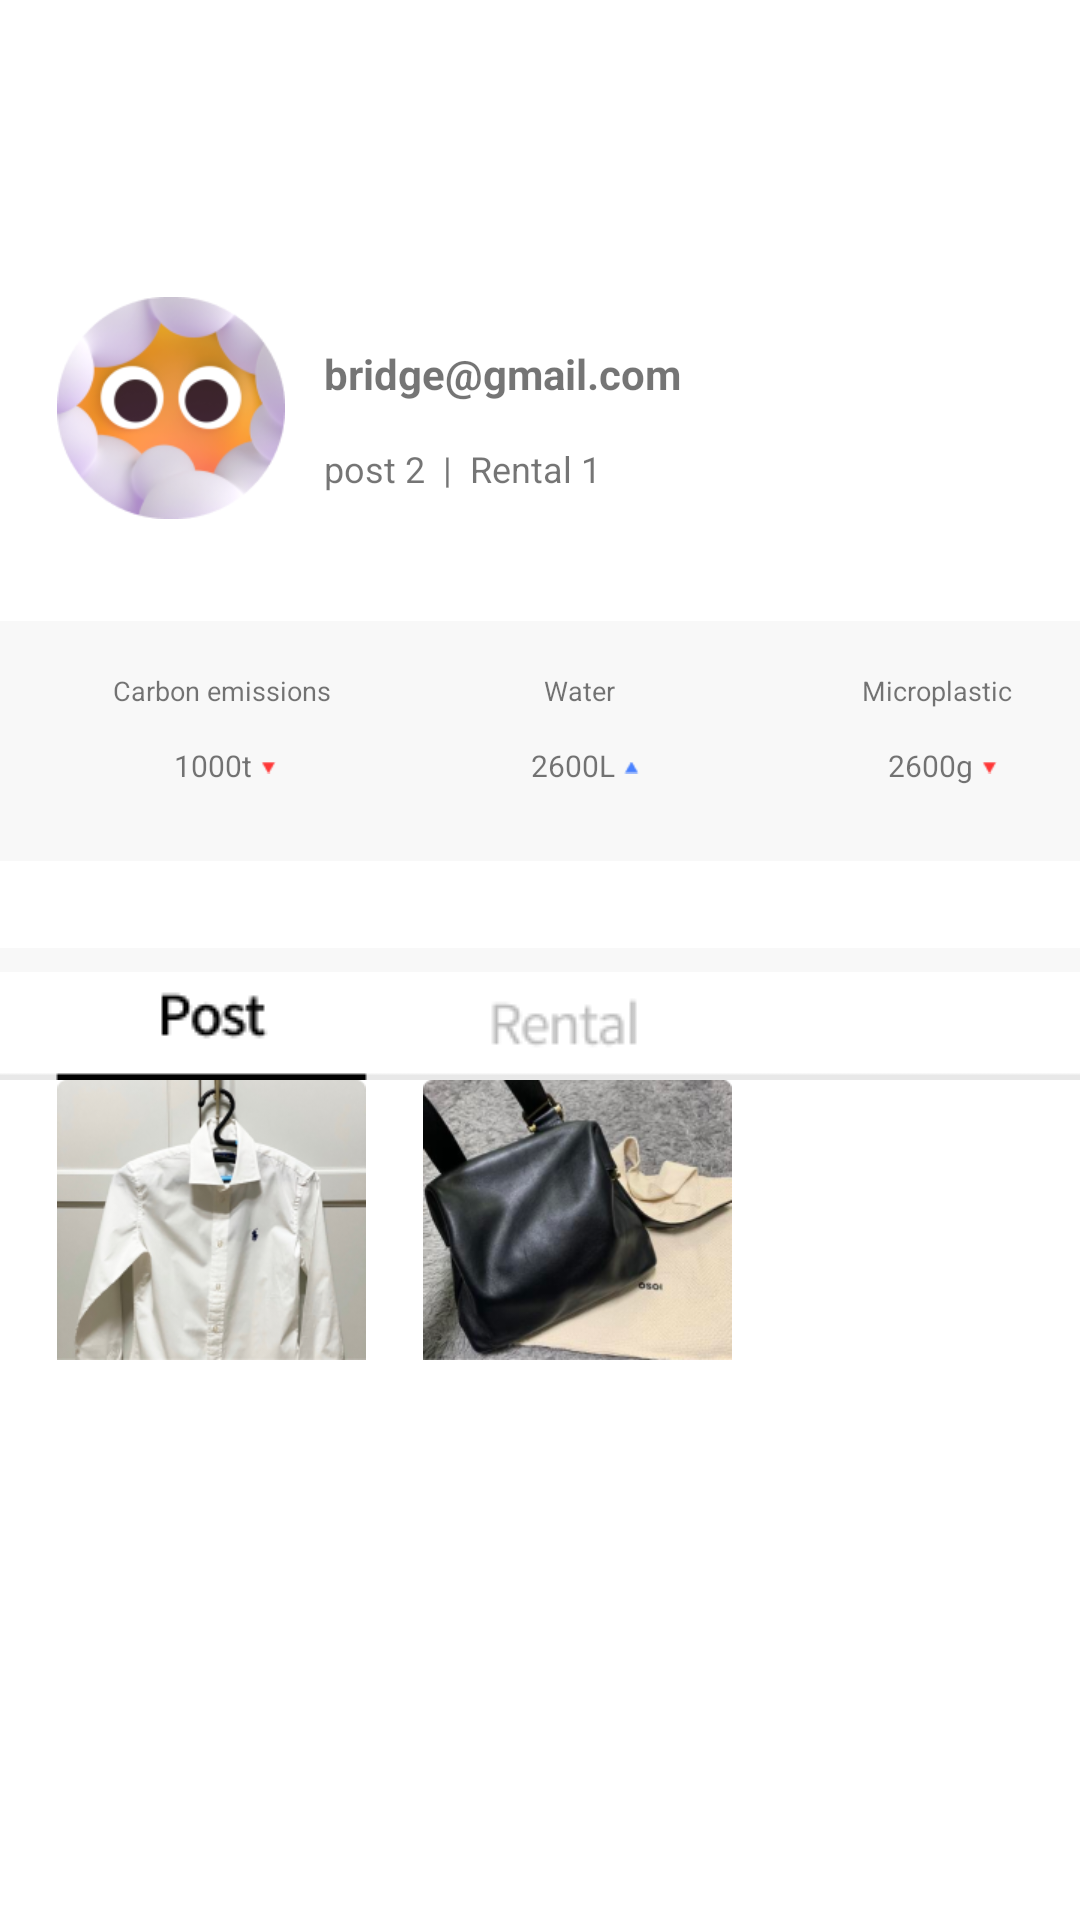

Icon click points for this 1080px x 1920px phone screenshot, format point (x, y):
profile: point (171, 408)
